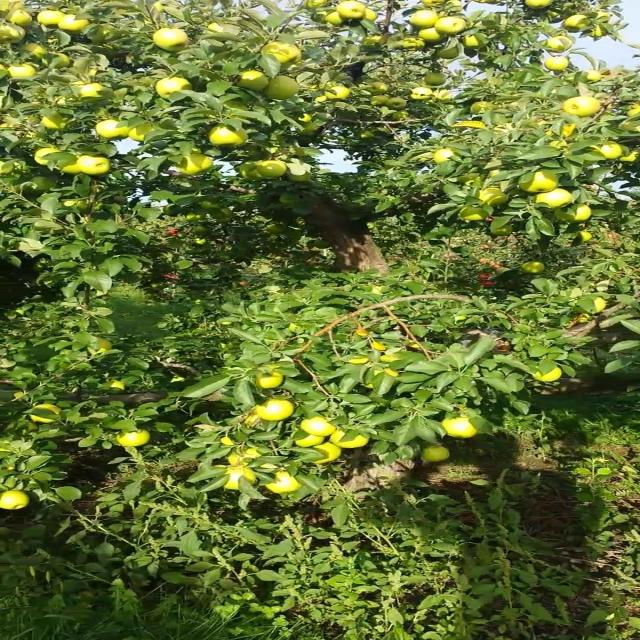apple: (255, 400, 293, 421), (156, 28, 190, 51), (77, 156, 114, 176), (262, 80, 299, 100), (177, 156, 213, 176), (227, 448, 263, 468), (28, 404, 64, 424), (212, 128, 249, 147), (525, 172, 560, 192), (554, 204, 590, 223), (540, 188, 574, 208), (447, 416, 476, 439), (269, 472, 300, 493), (99, 120, 130, 140), (156, 80, 192, 97), (269, 44, 299, 64), (333, 432, 370, 448), (312, 444, 341, 464), (241, 72, 270, 92), (568, 100, 603, 116), (227, 472, 256, 490), (483, 188, 510, 206), (63, 16, 91, 33), (255, 164, 286, 179), (120, 432, 149, 448), (305, 420, 334, 436), (532, 368, 562, 383), (596, 144, 624, 160), (412, 12, 439, 28), (547, 36, 574, 52), (440, 20, 468, 35), (77, 84, 105, 99), (6, 492, 28, 511), (340, 4, 364, 20), (35, 148, 57, 165), (419, 28, 443, 43), (241, 164, 263, 180), (255, 376, 284, 388), (42, 116, 68, 129), (426, 448, 448, 463), (568, 16, 590, 31), (298, 436, 325, 448), (13, 12, 34, 27), (6, 28, 27, 43), (461, 208, 485, 221), (42, 12, 64, 26), (490, 224, 514, 236), (291, 168, 313, 181), (28, 44, 48, 58), (525, 0, 555, 9), (547, 60, 569, 72), (412, 88, 434, 100), (433, 152, 455, 164), (326, 88, 348, 100), (440, 48, 462, 60), (92, 340, 114, 352), (35, 180, 57, 192), (63, 160, 80, 175), (13, 68, 36, 79), (212, 212, 235, 223), (618, 152, 639, 164), (426, 76, 448, 87), (362, 36, 384, 47), (404, 40, 427, 50), (134, 128, 151, 141), (326, 12, 343, 25), (305, 0, 329, 9), (525, 264, 548, 273), (369, 84, 391, 93), (248, 412, 263, 425), (468, 36, 484, 48), (220, 436, 236, 448), (625, 104, 638, 118), (56, 56, 71, 68), (561, 124, 576, 136), (589, 28, 606, 38), (205, 200, 222, 210), (269, 224, 286, 234), (390, 112, 411, 120), (625, 120, 638, 132), (589, 72, 604, 82), (476, 104, 492, 113), (390, 100, 405, 109), (6, 4, 25, 11), (376, 96, 389, 106), (362, 12, 377, 20), (440, 92, 455, 100), (596, 300, 606, 312), (298, 116, 313, 124), (212, 24, 224, 33), (627, 108, 638, 117), (156, 4, 167, 13), (461, 124, 484, 128), (582, 232, 592, 241), (319, 96, 331, 103), (113, 384, 128, 389), (184, 216, 199, 220), (490, 172, 500, 177), (452, 4, 460, 7), (429, 4, 432, 7)
